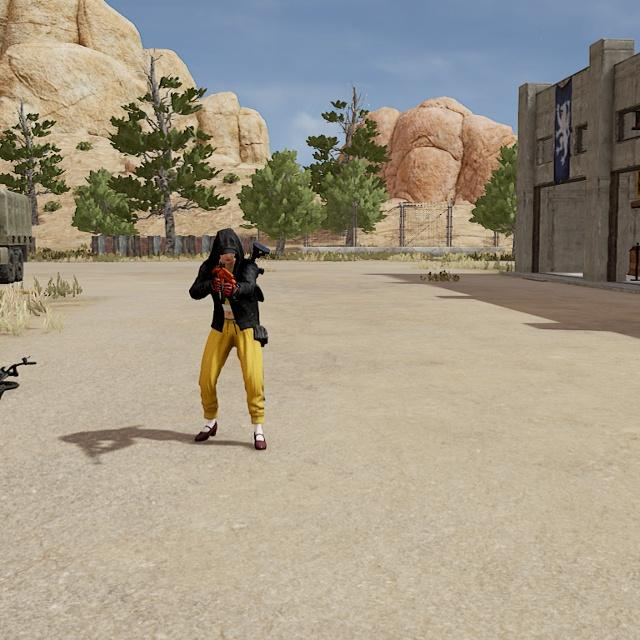head: (213, 229, 241, 266)
people: (188, 228, 268, 451)
